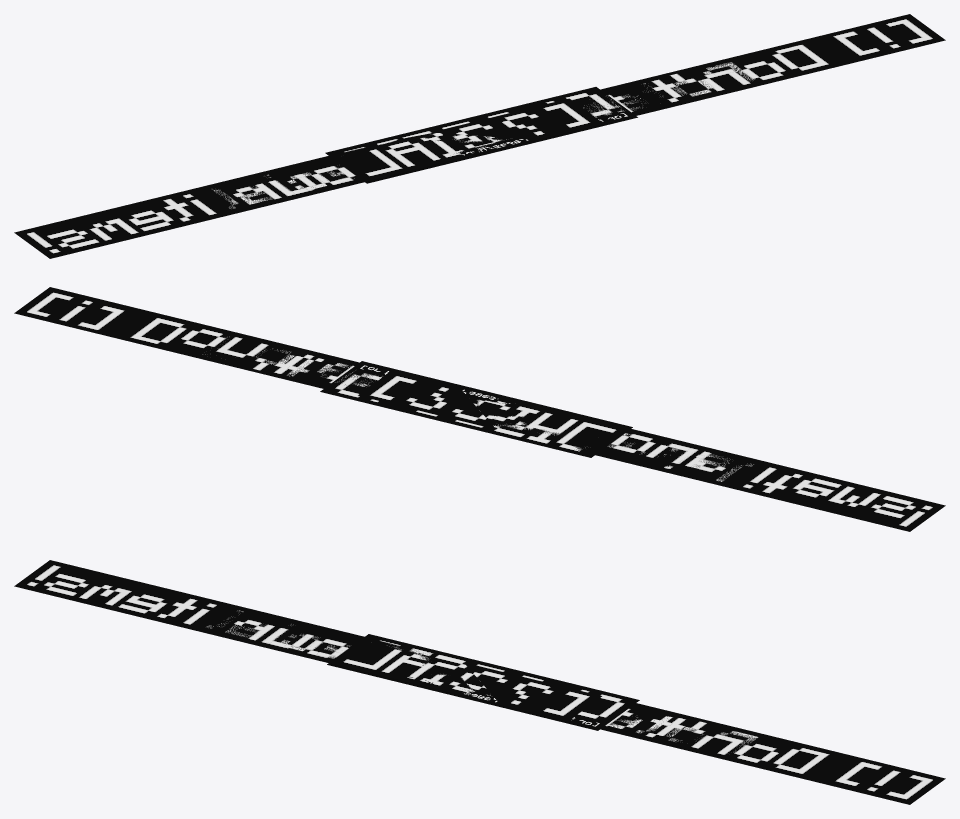
File: SignMesh.fbx
The picture shows the model from 3 angles, top to bottom: view 1: azimuth 30°, elevation 25°; view 2: azimuth 150°, elevation 25°; view 3: azimuth 330°, elevation 25°; orthographic projection.
Visible parts, largest first — view 1: items, classic, special, IDK, potential; view 2: items, classic, IDK, special, potential; view 3: items, classic, special, IDK, potential.
Part boxes in pixels (x1,y1,x2,y2): items: [14, 14, 945, 258]; classic: [325, 87, 637, 183]; special: [331, 137, 528, 181]; IDK: [431, 98, 602, 139]; potential: [212, 62, 754, 208]; items: [14, 287, 945, 531]; classic: [320, 361, 632, 457]; IDK: [358, 371, 495, 429]; special: [477, 397, 628, 454]; potential: [202, 336, 753, 481]; items: [14, 560, 945, 804]; classic: [327, 634, 639, 730]; special: [331, 637, 490, 699]; IDK: [464, 662, 601, 720]; potential: [206, 610, 758, 752].
Bounding box in the file's own units: 17.2 × 0.00363 × 1.4.
